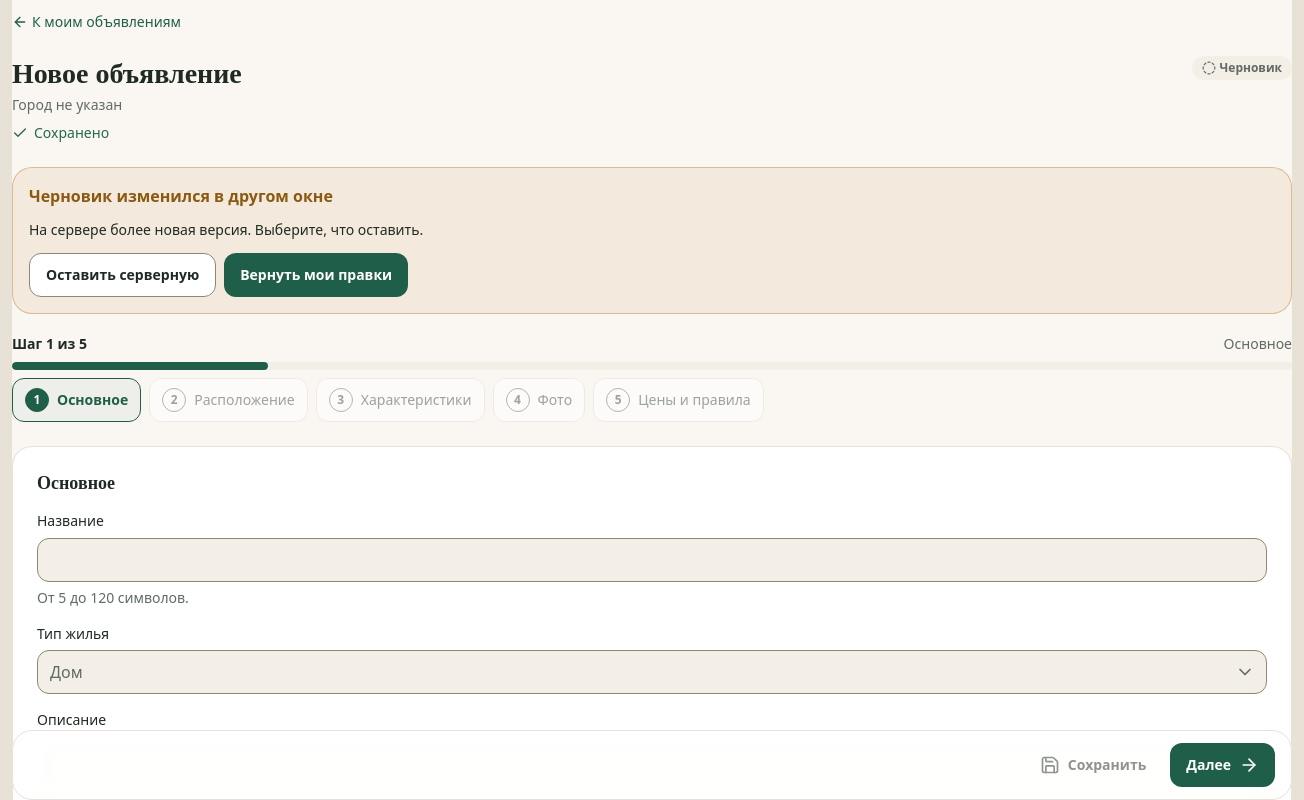
Test: ListingWizard › предлагает выбрать версию при конфликте с сервером
The image size is (1304, 800).
Expected: the text "Черновик изменился в другом окне" is shown, [29,185,333,207]
Expected: the field labelled "Название" is disabled, [37,538,1267,582]
Click the button "Вернуть мои правки" at (316, 275), box [224,253,408,297]
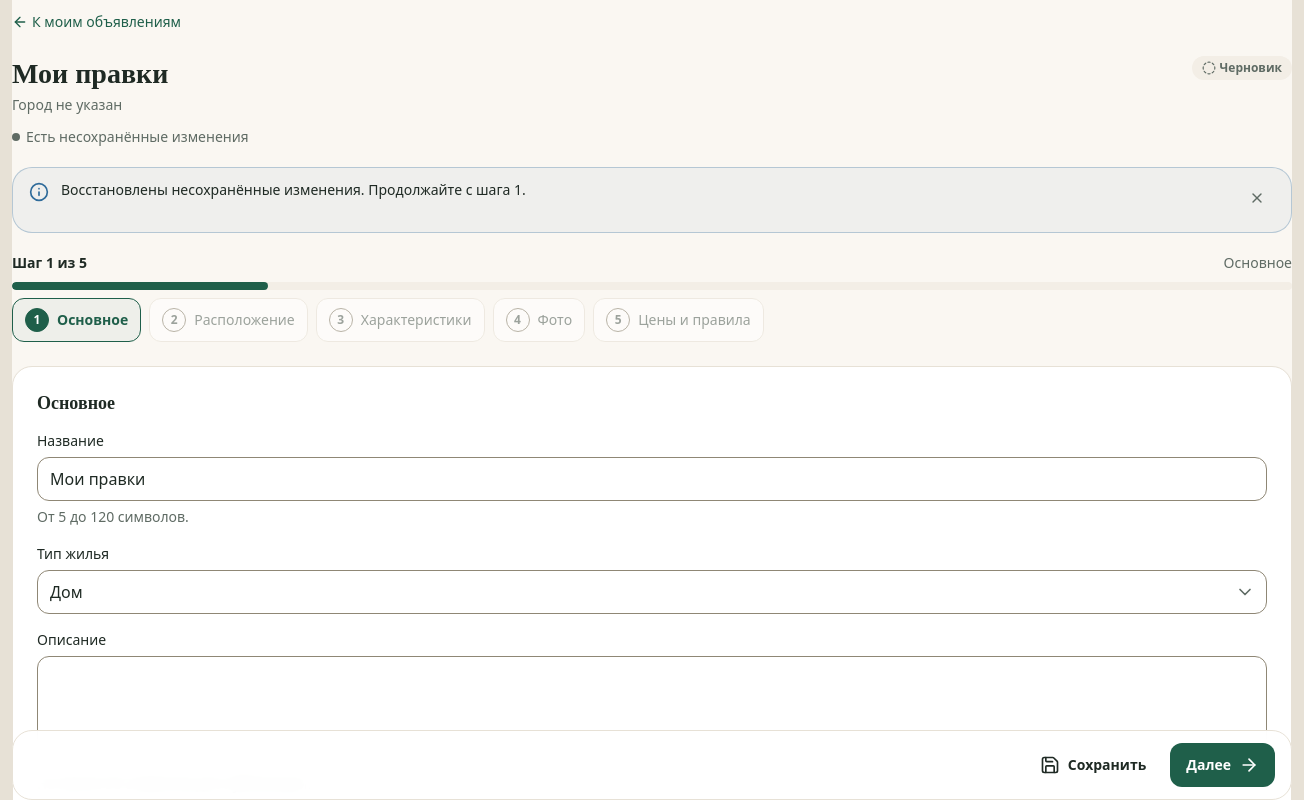
Now the field labelled "Название" holds "Мои правки", box [37,457,1267,501]
Now the text "Восстановлены несохранённые изменения. Продолжайте с шага 1." is shown, box [61,180,526,200]
